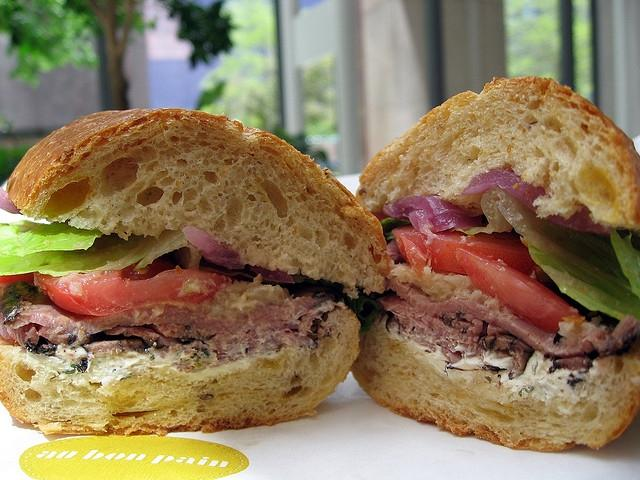lettuce: (454, 186, 640, 320), (0, 222, 103, 258), (610, 228, 636, 296)
onion: (459, 170, 610, 235), (383, 194, 482, 232), (182, 226, 245, 270), (250, 265, 296, 284)
tomato: (32, 258, 228, 316), (456, 248, 582, 334), (392, 224, 538, 278)
